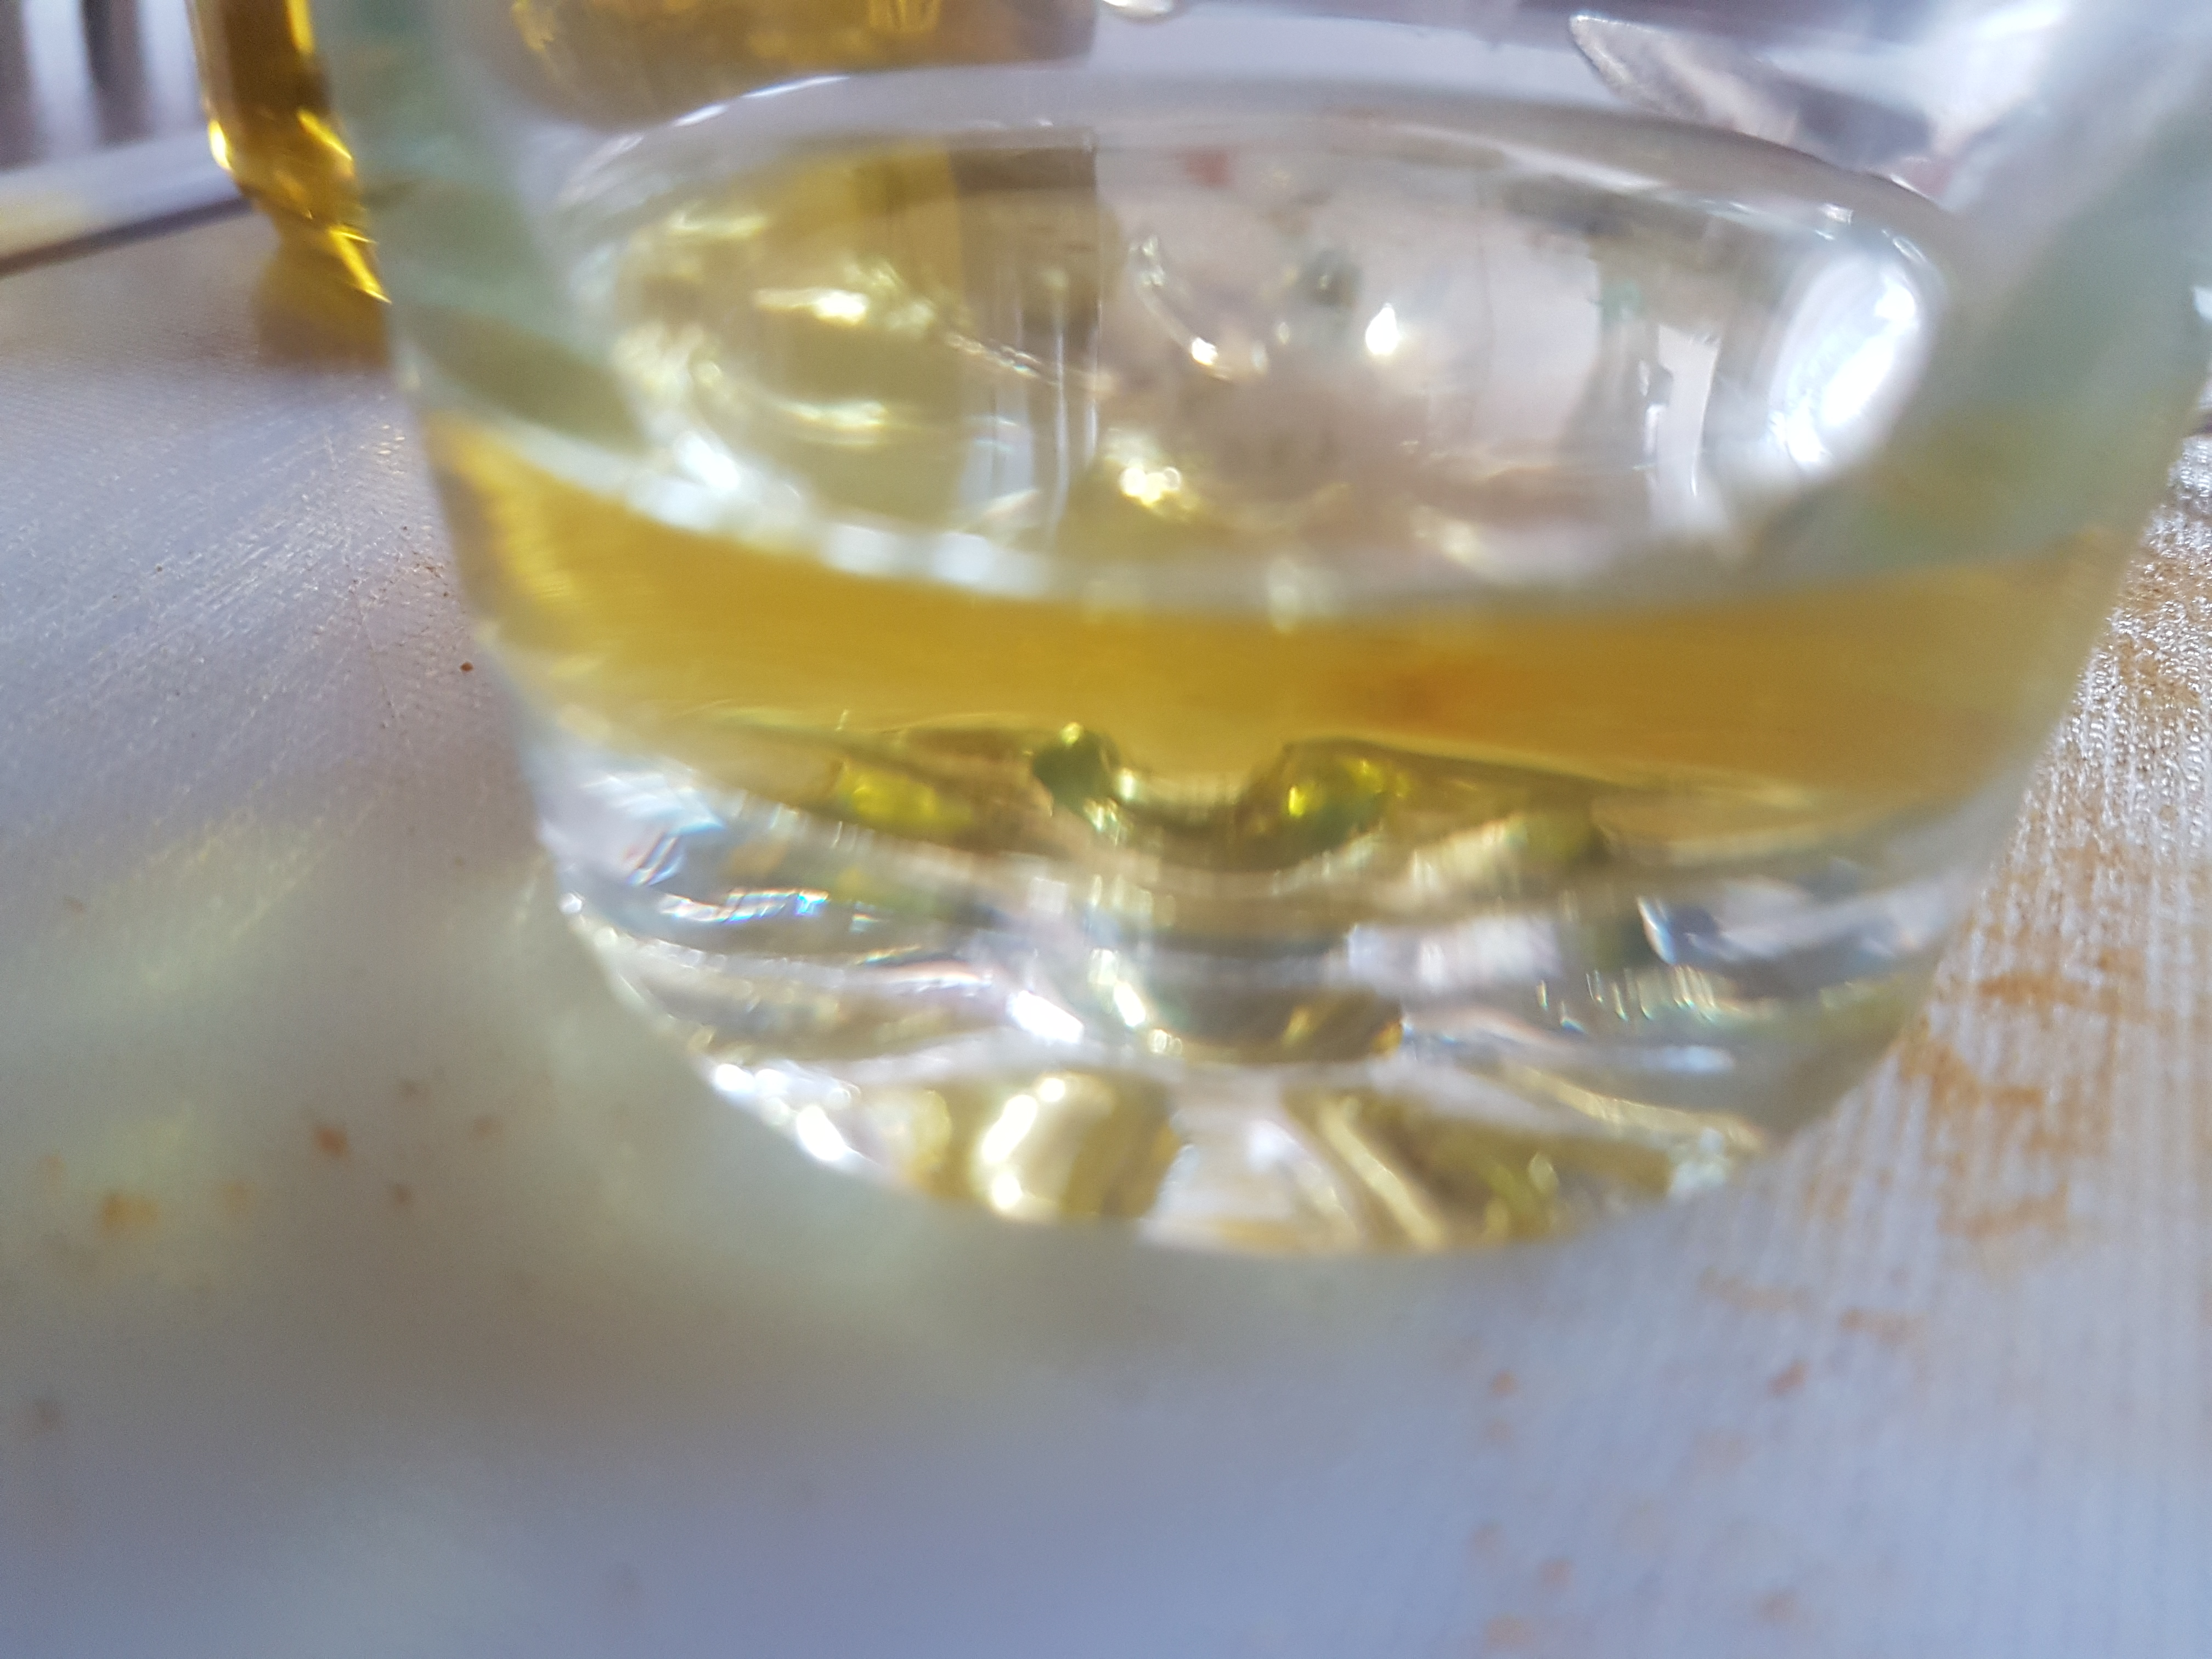Olive oil: (413, 105, 2060, 1227)
